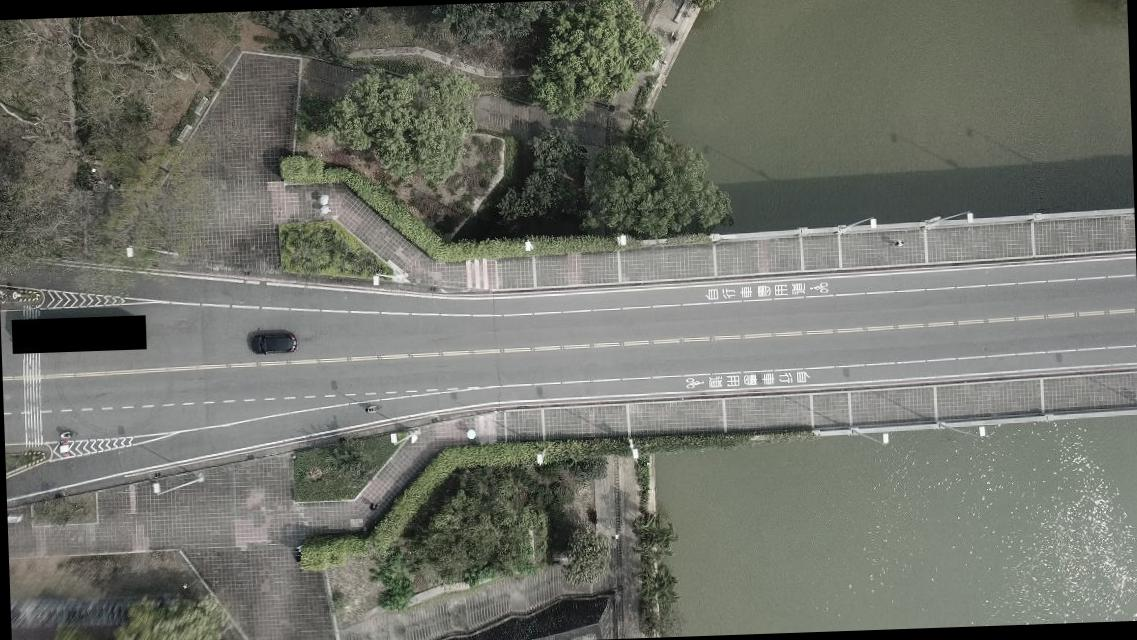vehicle: (249, 332, 297, 356)
